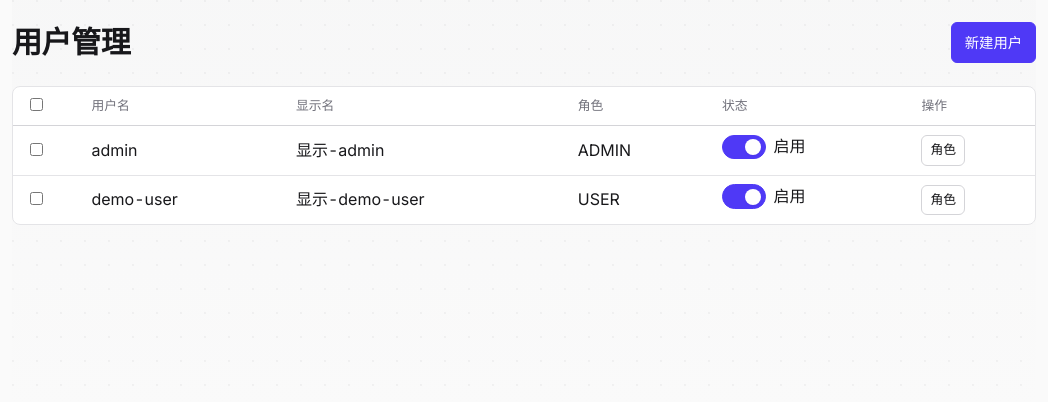
Scenario: UsersView 批量启用与选择守卫（P24） › 批量启用免确认直发；失败呈现错误且选择保留（可重试）
Click the checkbox with test id "select-user-2".
click(36, 199)  # box x1=30 y1=192 x2=43 y2=205
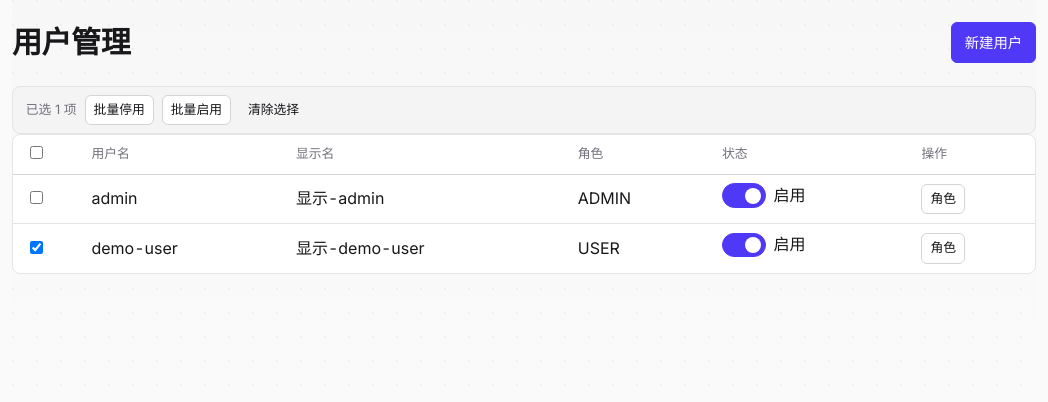
Click the button with test id "batch-activate".
click(196, 110)  # box x1=162 y1=95 x2=231 y2=125
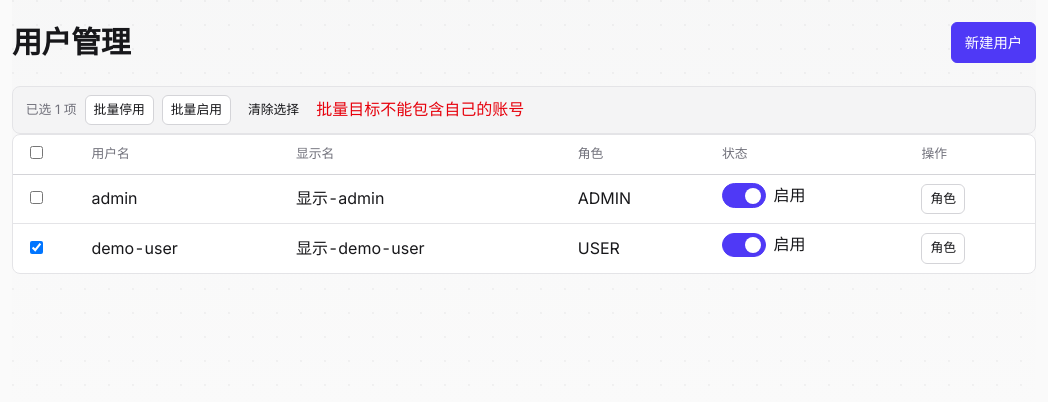
Check: the element with test id "user-batch-bar" shows "已选 1 项", box x1=26 y1=102 x2=77 y2=117
Check: the element with test id "user-batch-bar" shows "批量目标不能包含自己的账号", box x1=316 y1=99 x2=524 y2=119
